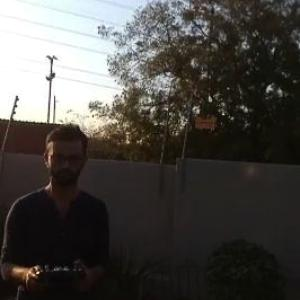follow: (0, 115, 114, 299)
